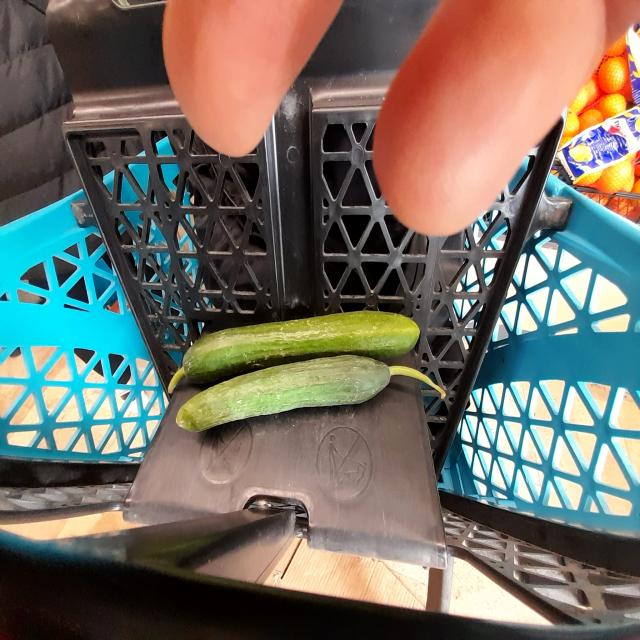cucumber: (163, 297, 430, 388), (169, 354, 451, 439)
